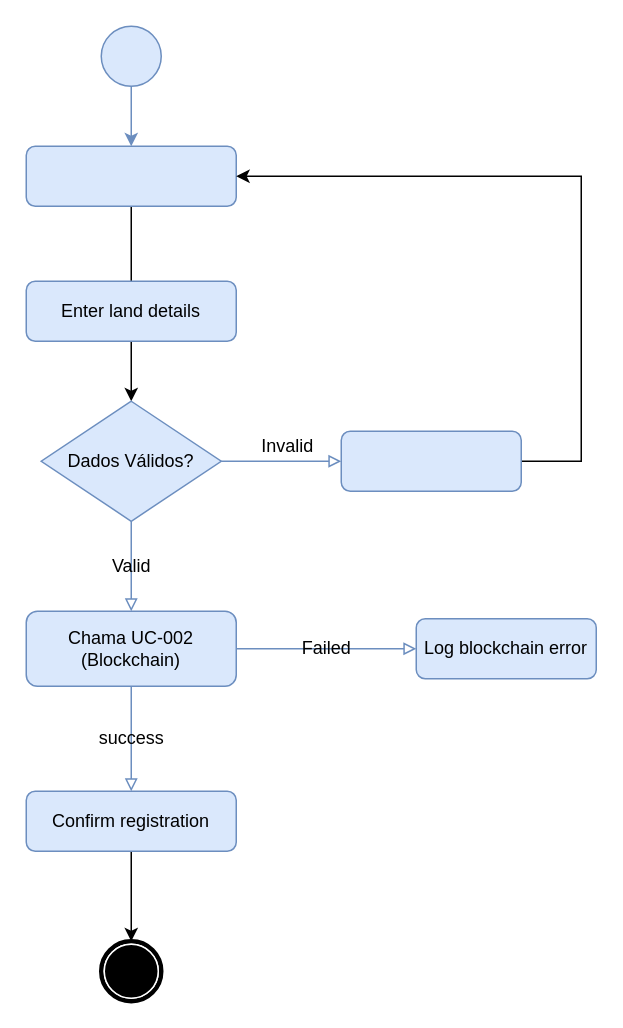
The diagram is 623 pixels wide and 1028 high, and some of its shapes have lost their labels. Here are the shapes that lost their labels. From the top down, the box of each, then its label:
(25, 145, 236, 206): Accesso ao formulário de registro
(340, 430, 521, 491): Mensagem de Erro
